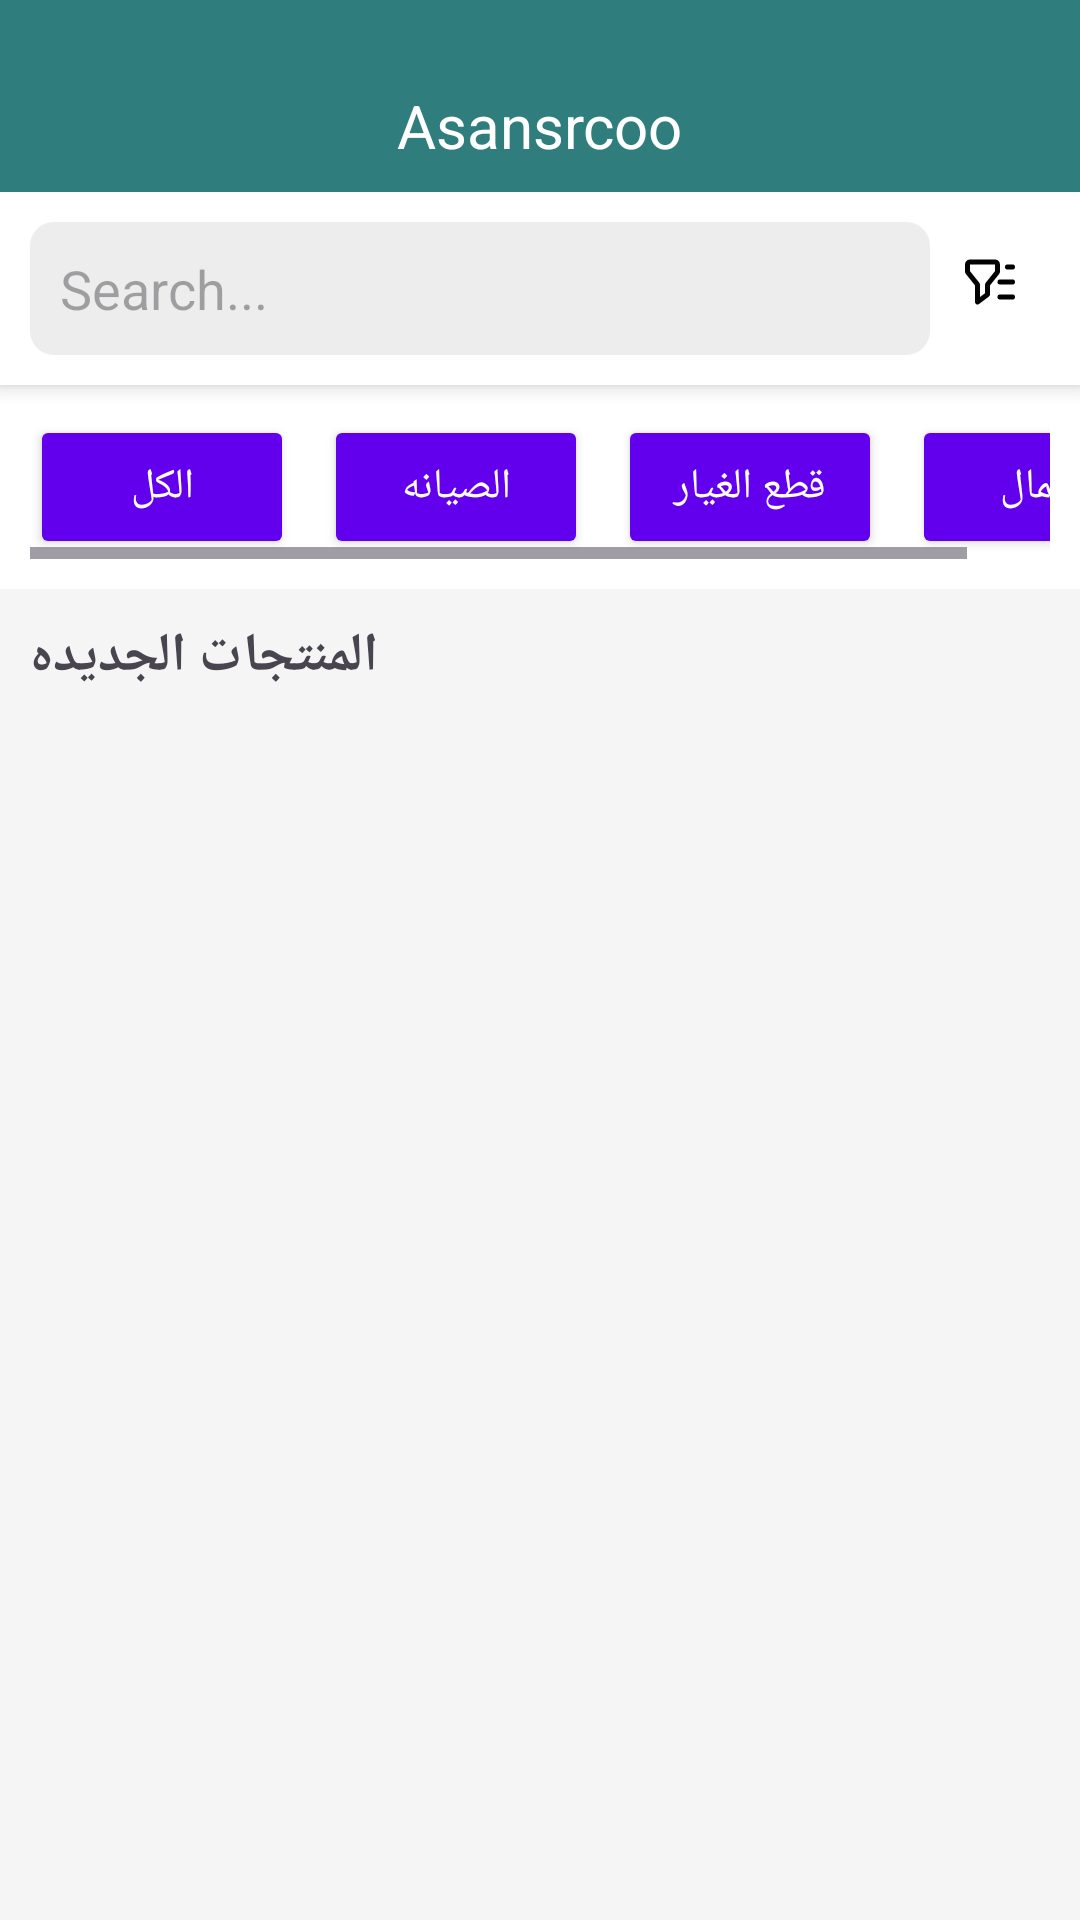

Icons on this 1080px×1920px Android screen, each with the point to tap as (x,y):
Filter: (990,282)
